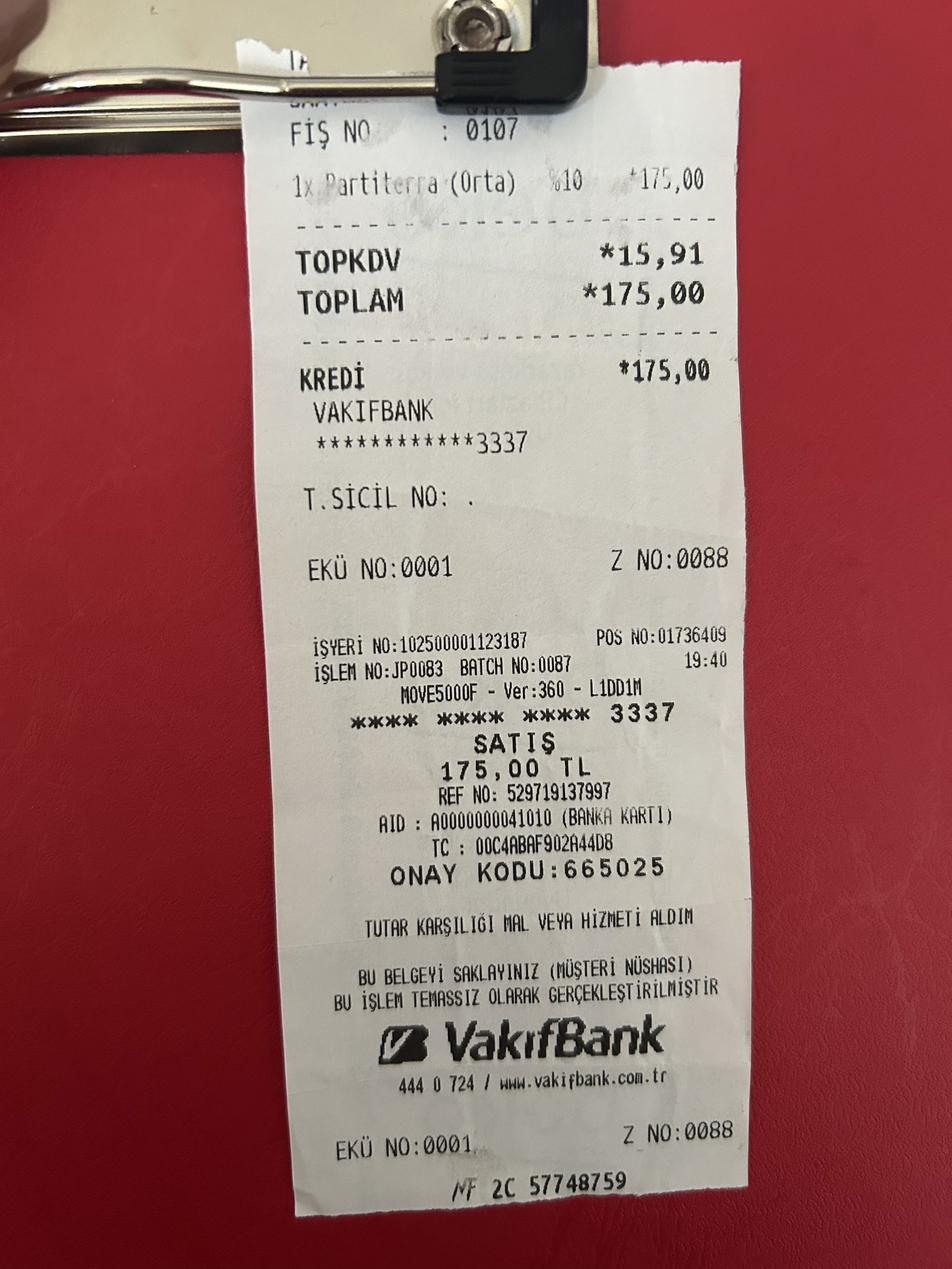price: (593, 273, 711, 318)
